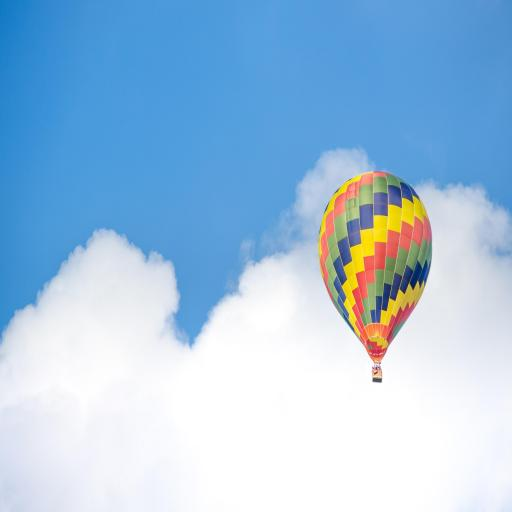hot air ballon: (318, 164, 434, 388)
